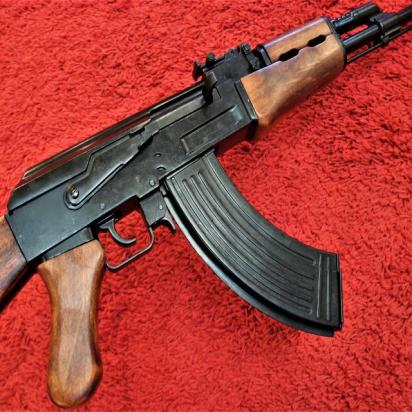Gun: (0, 1, 409, 406)
